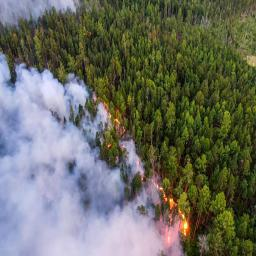Heavy smoke: (1, 45, 201, 256)
Medium fire: (11, 72, 194, 246)
